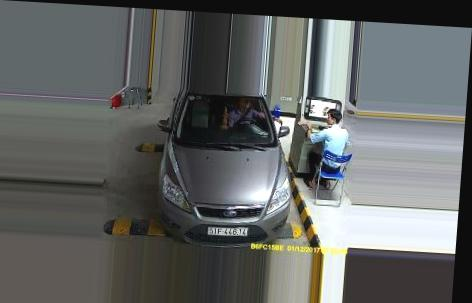License_Plate: (205, 223, 249, 239)
